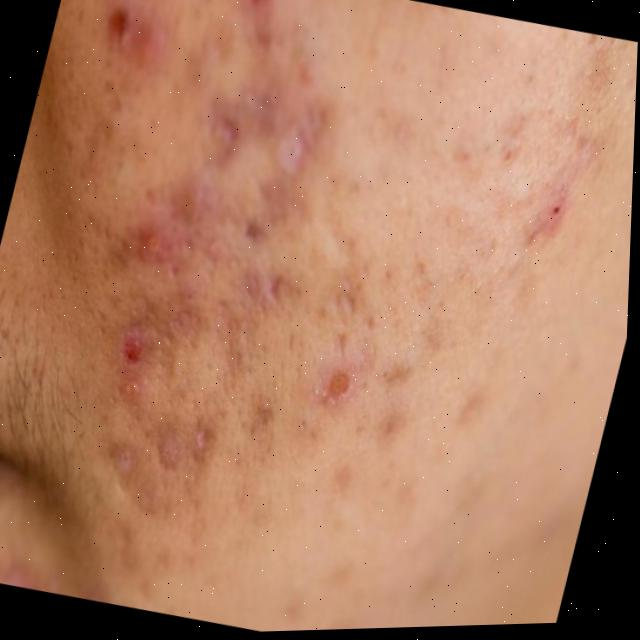Acne: (33, 0, 526, 520)
